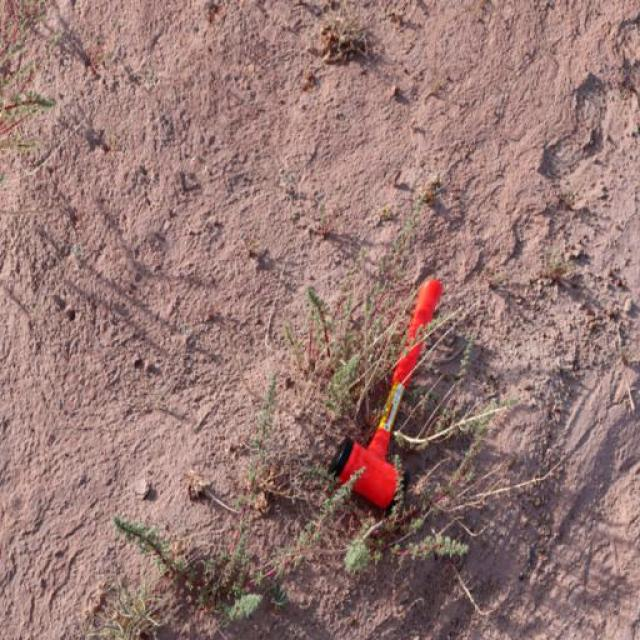mallet: (326, 276, 444, 510)
